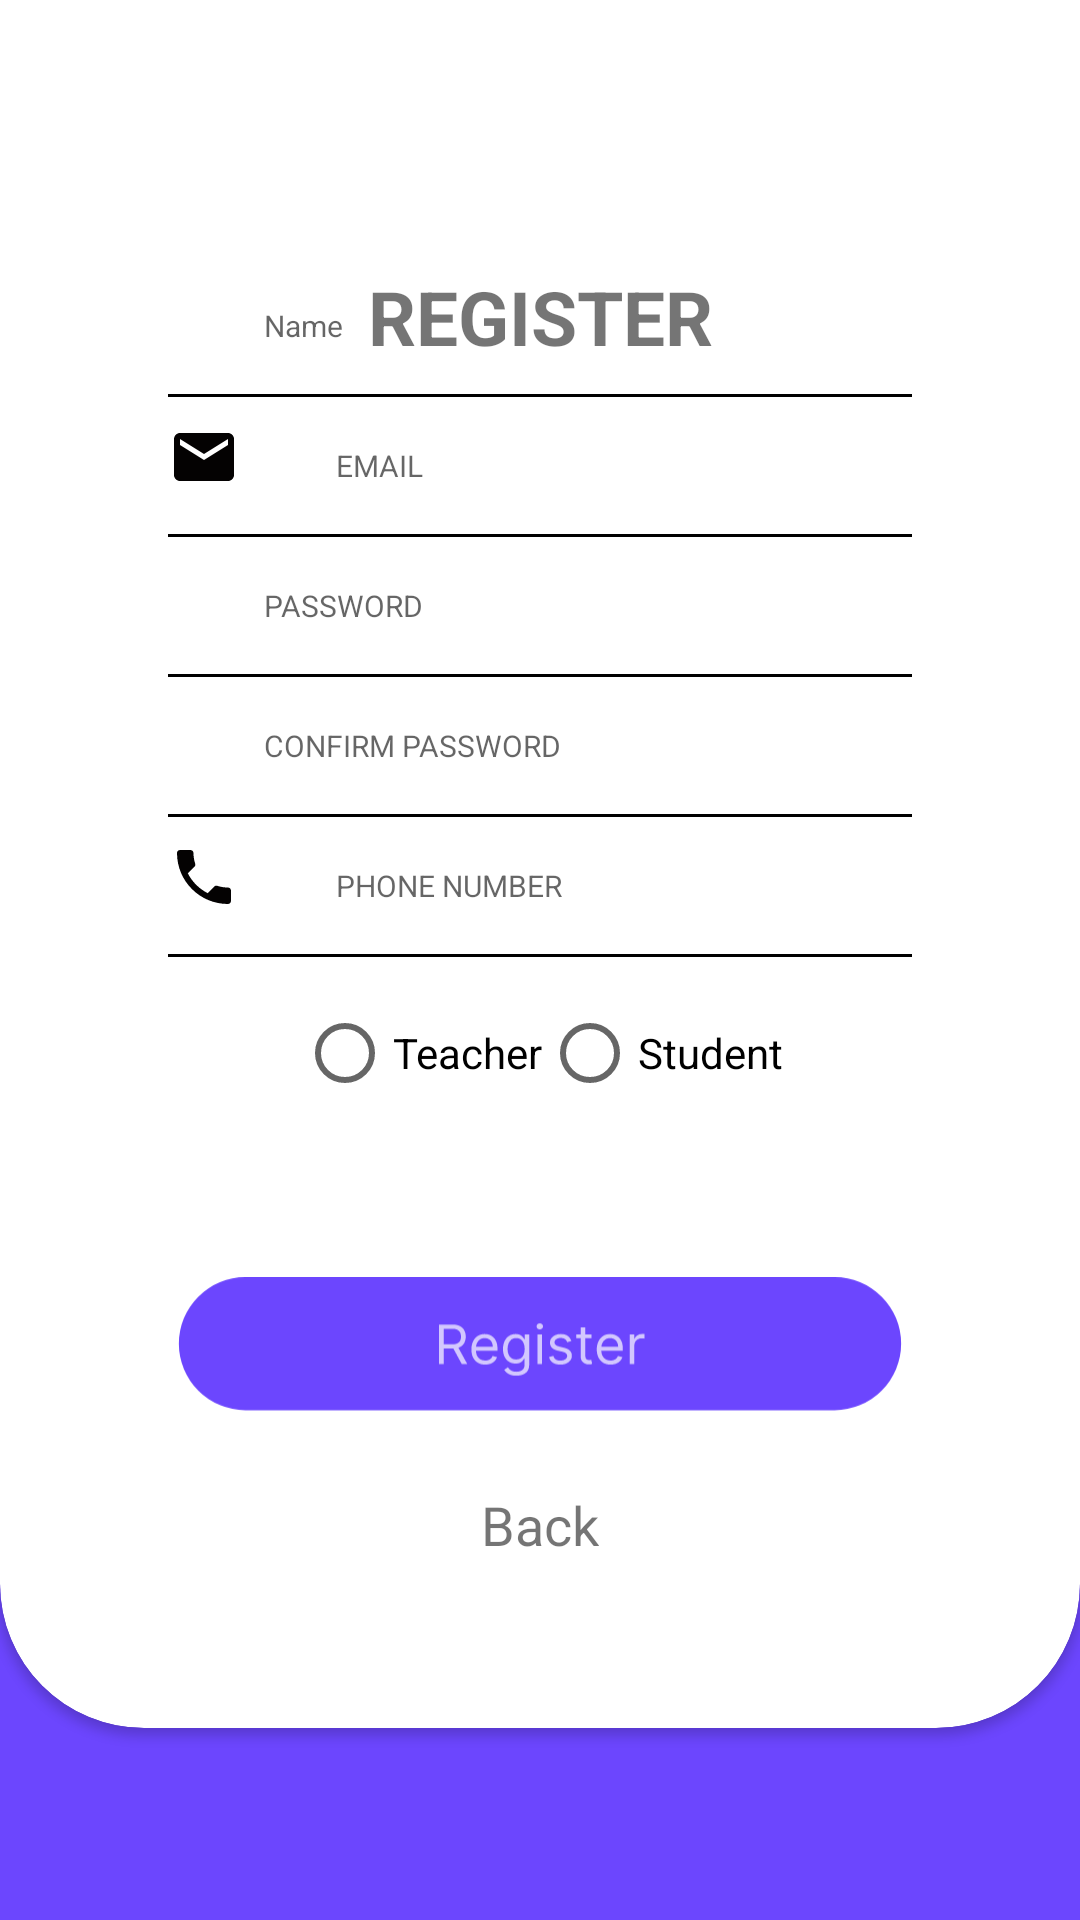

Where to tap for icons on this 1080px x 1920px app screen, as (x,y):
local phone: (204,877)
